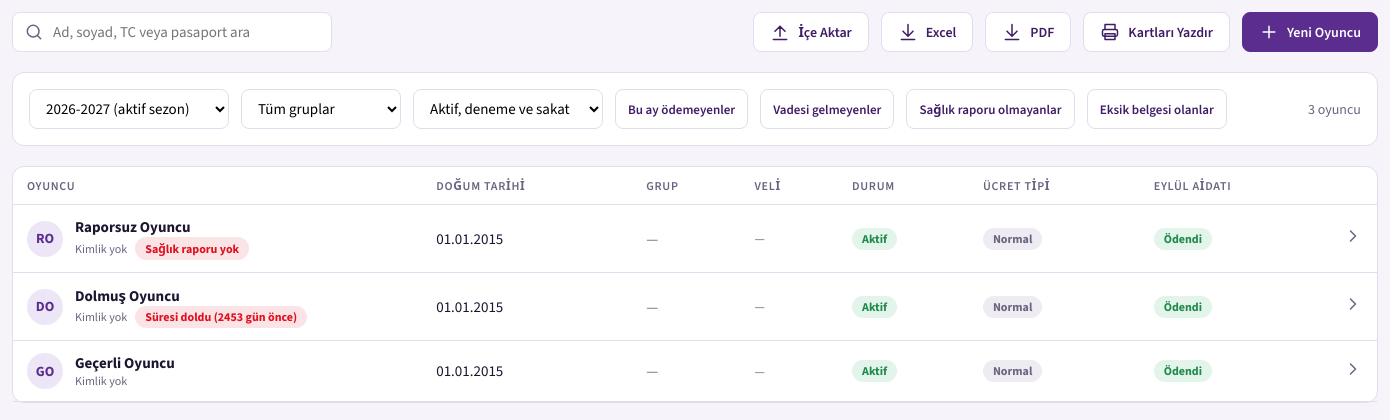
Raporlar: önizleme sayfalı › Oyuncular: 'Sağlık raporu olmayanlar' filtresi bugünün tarihiyle sorguya gider; satırda rapor rozeti
Check: the text "Geçerli Oyuncu" is shown, box [75,353,175,373]
Check: the text "Sağlık raporu yok" is shown, box [135,237,249,260]
Click the button "Sağlık raporu olmayanlar" at (991,109), box [906,89,1075,129]
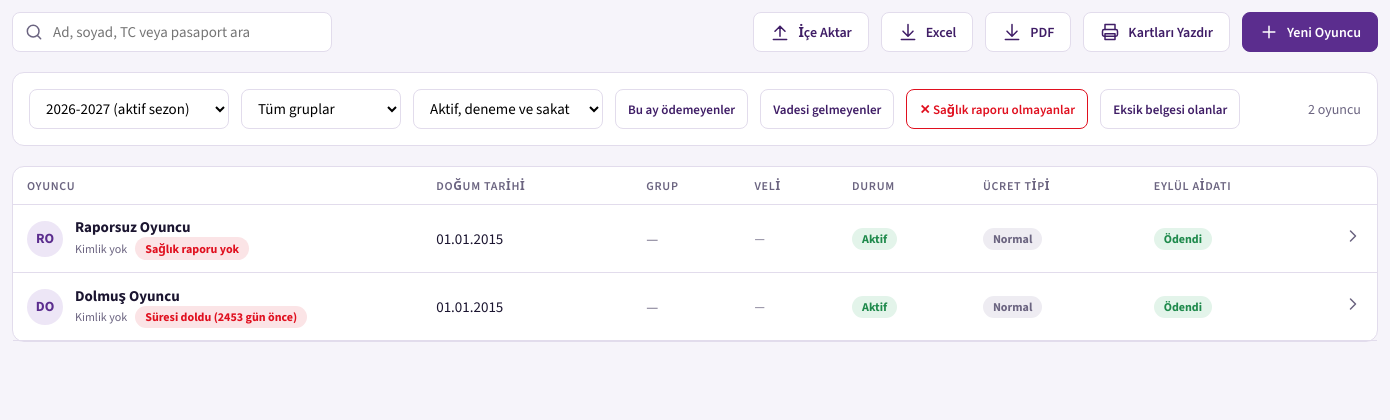
Check: the text "Geçerli Oyuncu" is gone
Check: the button "✕ Sağlık raporu olmayanlar" is shown, box [906,89,1088,129]
